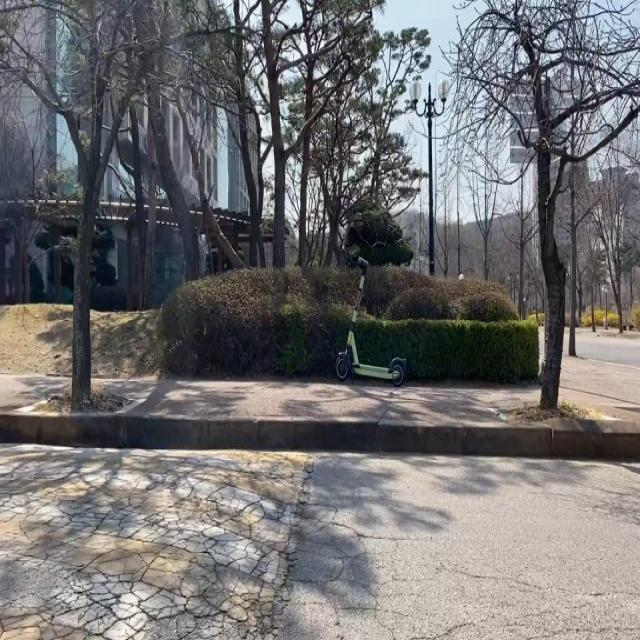sidewalk: (94, 376, 541, 424), (562, 354, 640, 419)
